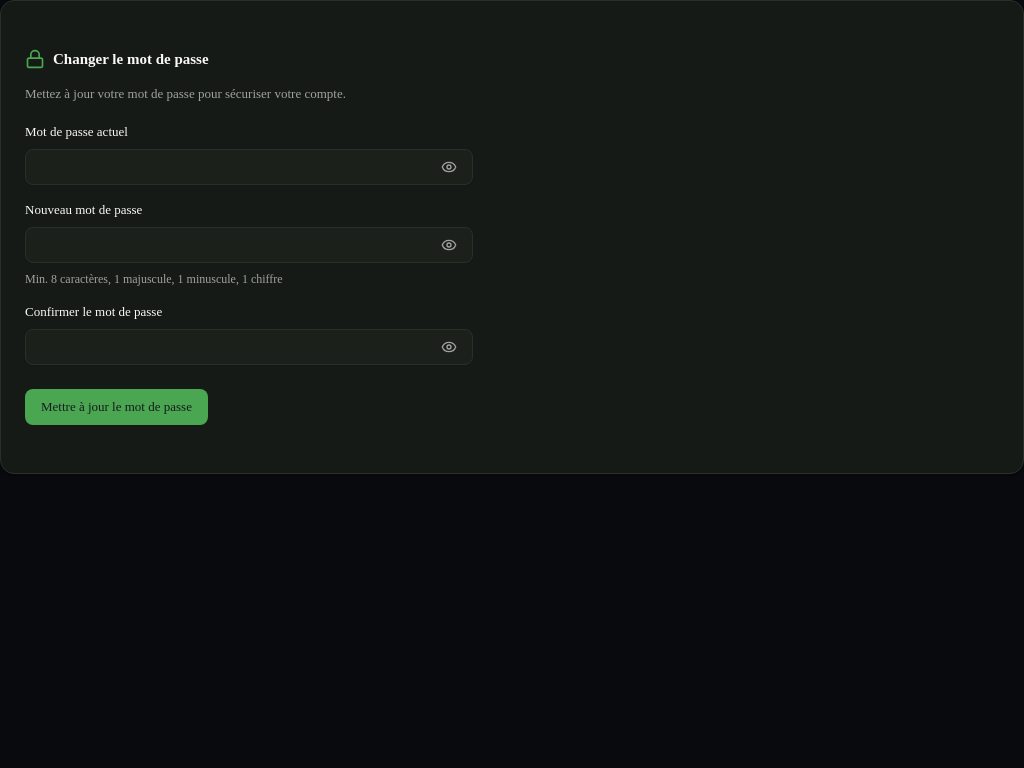
PasswordChangeForm › reports the schema messages on an empty submit without calling the API
This screenshot has width=1024, height=768.
Click the button "Mettre à jour le mot de passe". click: (116, 407)
box: [25,389,208,425]
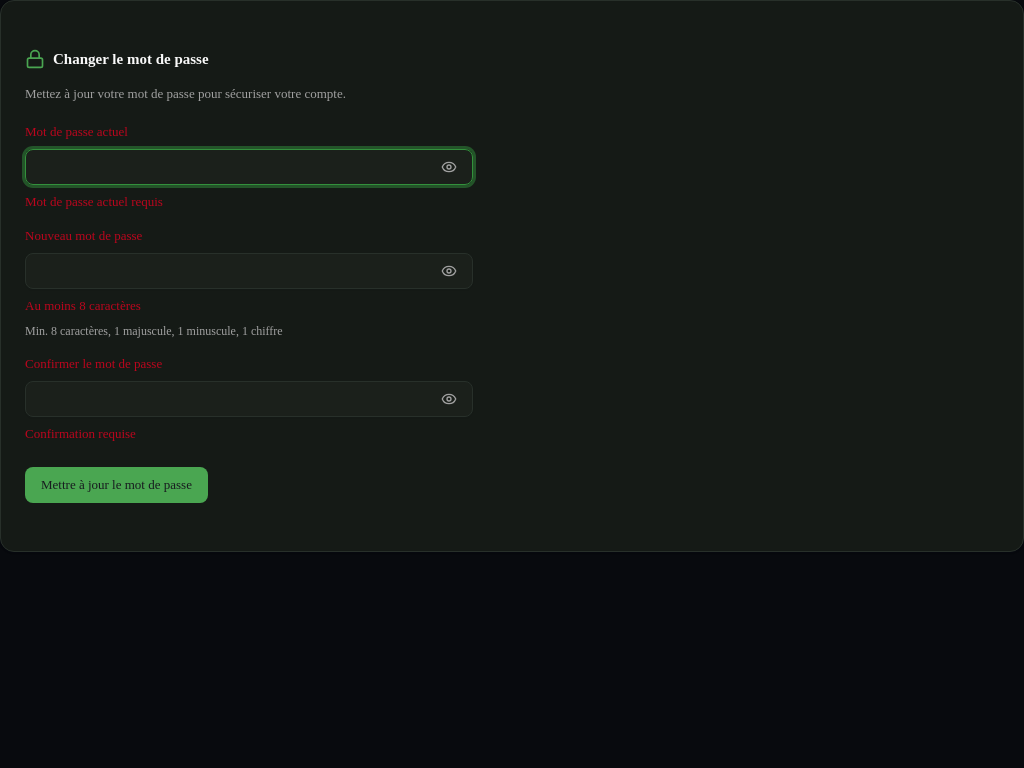
Expected: the text "Mot de passe actuel requis" is shown, [25,194,163,209]
Expected: the text "Au moins 8 caractères" is shown, [25,298,141,313]
Expected: the text "Confirmation requise" is shown, [25,426,136,441]
